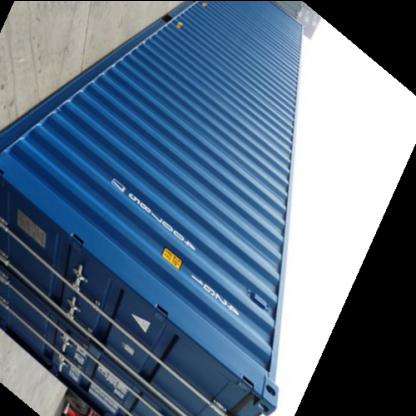Damage: (228, 380, 260, 415), (167, 12, 191, 38)
